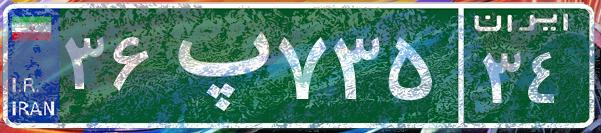3: (330, 28, 385, 110), (57, 26, 110, 107), (475, 38, 525, 113)
4: (525, 38, 570, 115)
5: (385, 28, 445, 110)
6: (110, 28, 158, 105)
7: (273, 28, 330, 110)
پ: (158, 15, 273, 115)
